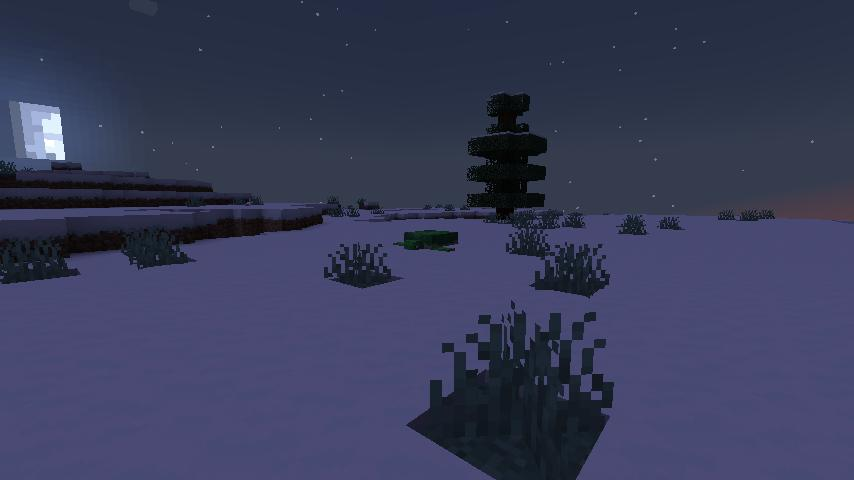turtle: (397, 227, 461, 254)
